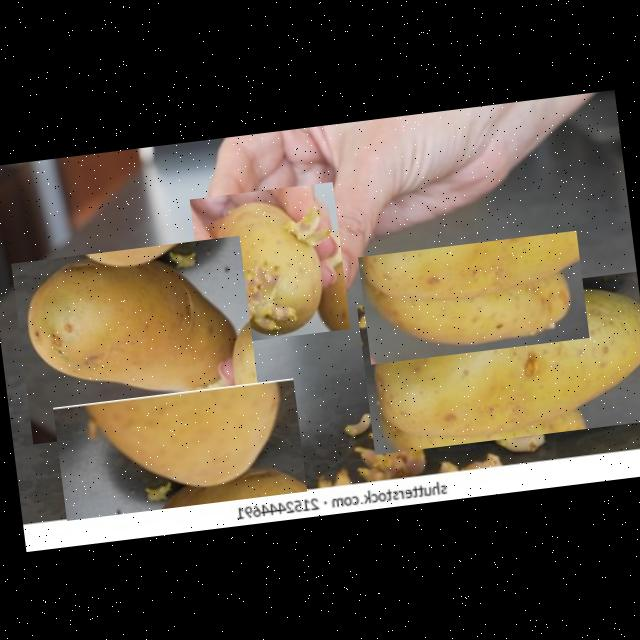Potato: (356, 271, 640, 454), (52, 378, 306, 520), (358, 230, 590, 364)
Sprouted potato: (11, 235, 261, 444), (190, 182, 350, 346)
